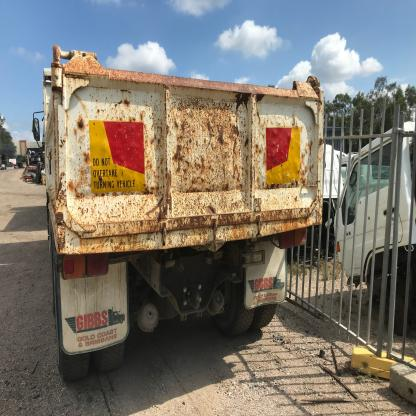dump_truck: (24, 28, 313, 383)
